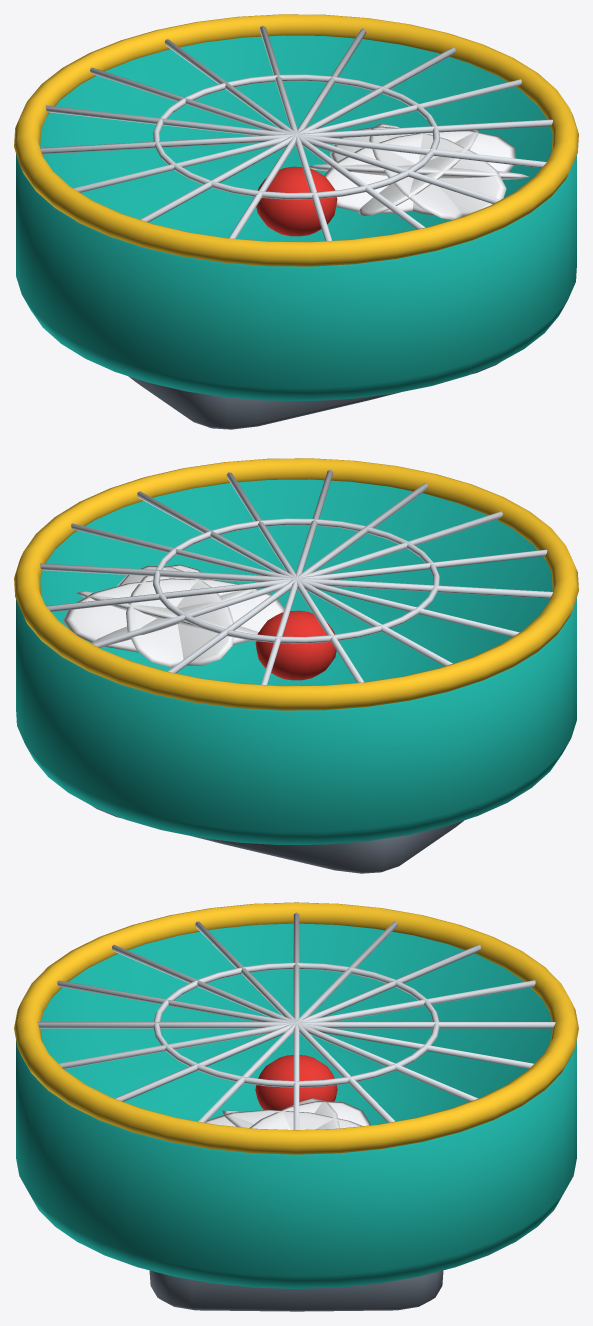
Rendered from fan.glb.
3 views of the same model, one above another, from view 1: azimuth 30°, elevation 25°; view 2: azimuth 150°, elevation 25°; view 3: azimuth 270°, elevation 25° (orthographic).
Parts seen in each view (by area): view 1: Housing, Blades; view 2: Housing, Blades; view 3: Housing, Blades.
Part boxes in pixels (left/top/right/bottom): Housing: left=14, top=14, right=578, bottom=429; Blades: left=256, top=123, right=529, bottom=236; Housing: left=14, top=458, right=578, bottom=873; Blades: left=63, top=564, right=336, bottom=680; Housing: left=14, top=902, right=578, bottom=1311; Blades: left=205, top=1055, right=370, bottom=1129.
Size of the model in its own units: 3.02 by 1.33 by 3.02.
